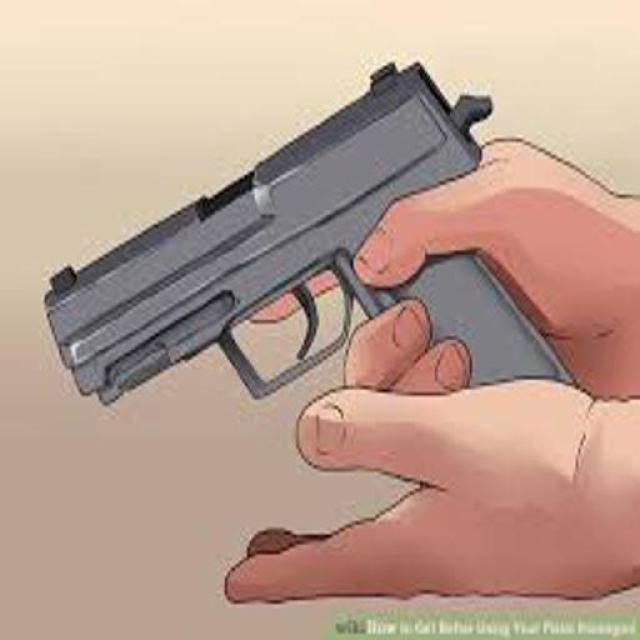pistol: (36, 26, 592, 431)
